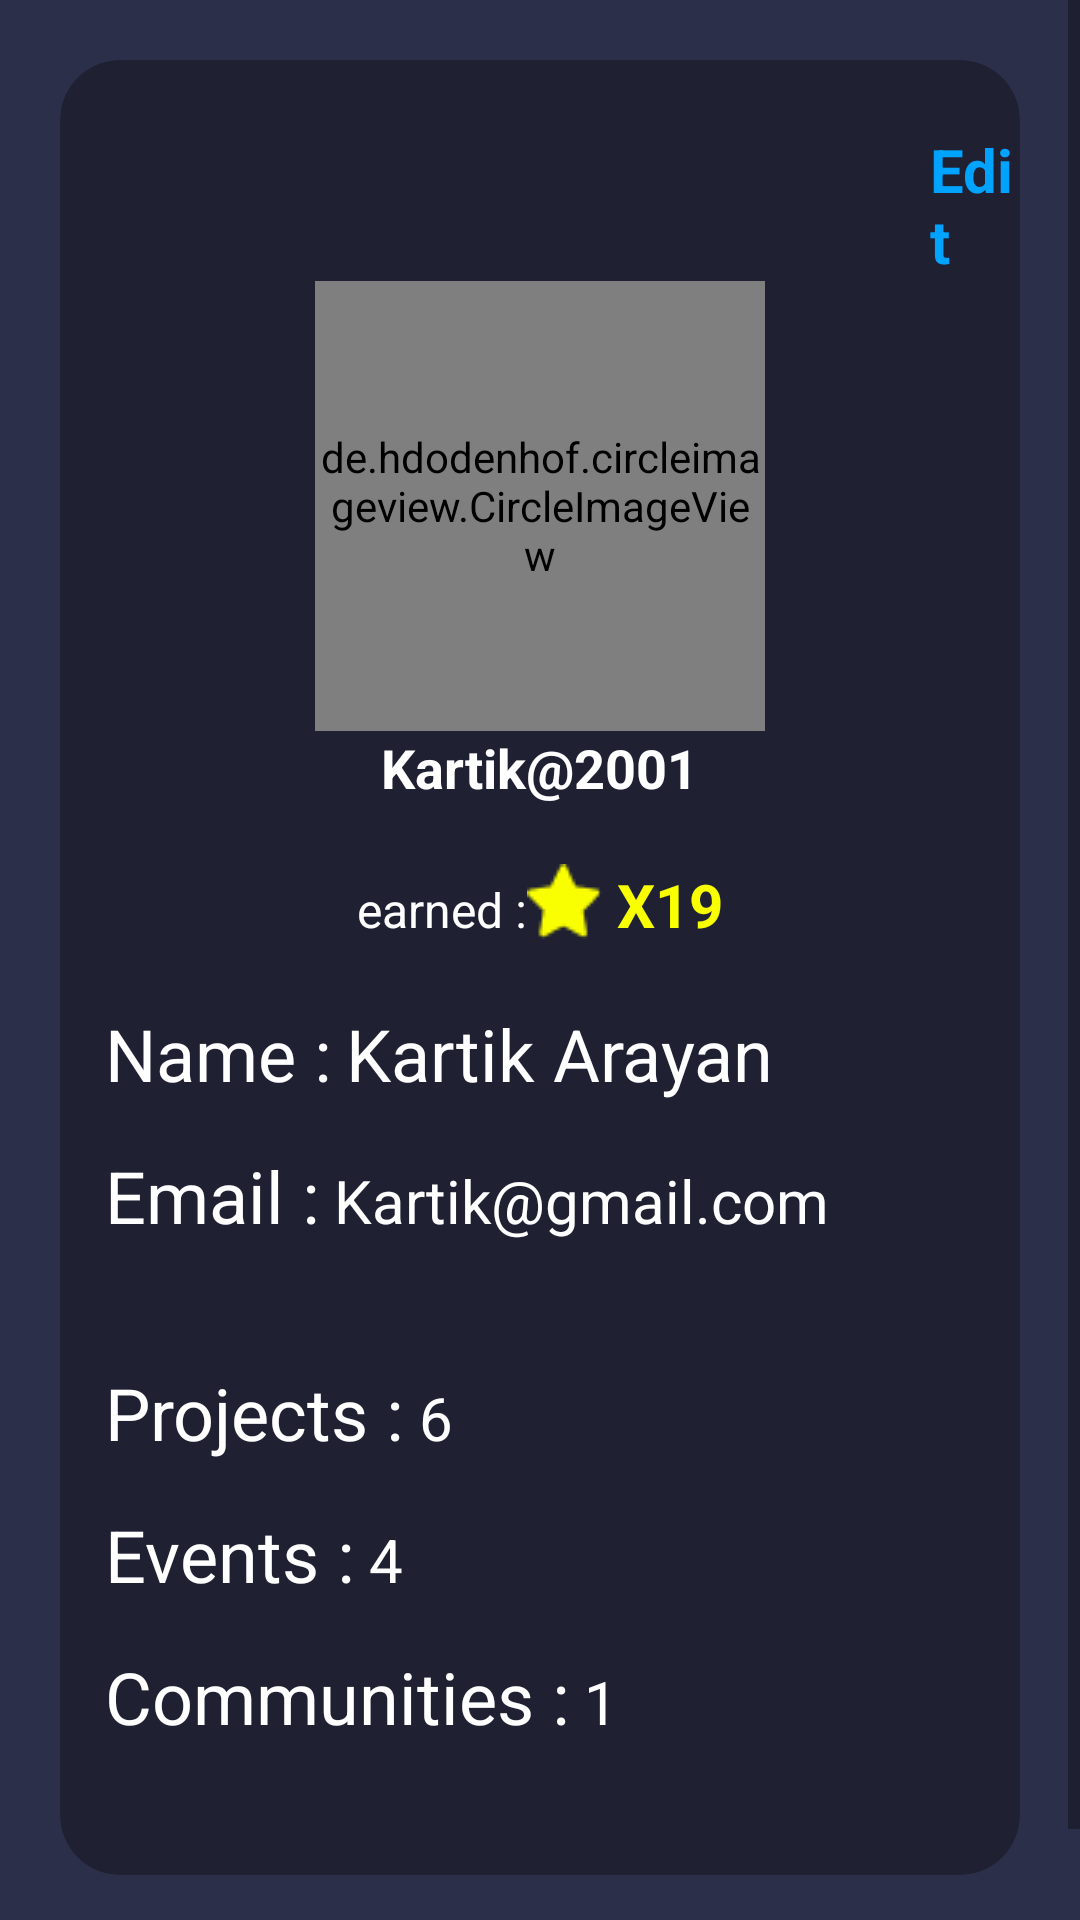

Screen size 1080×1920. Icon name, then its center in pixels as point (x, y):
one star: point (563, 901)
